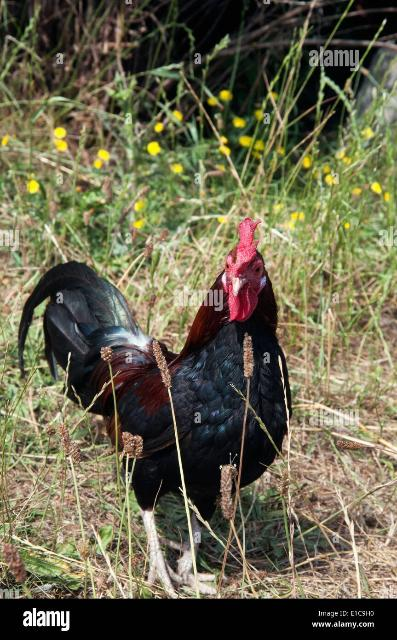Chicken: (18, 215, 294, 597)
